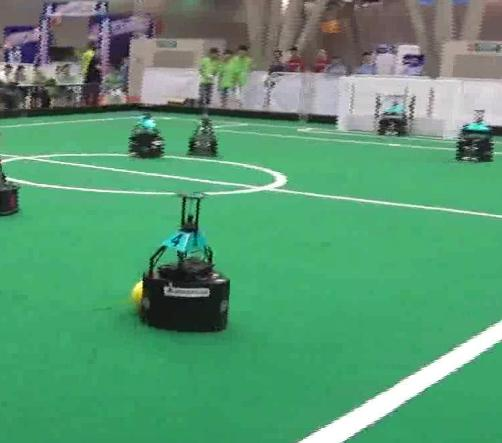robot: (137, 184, 232, 333)
